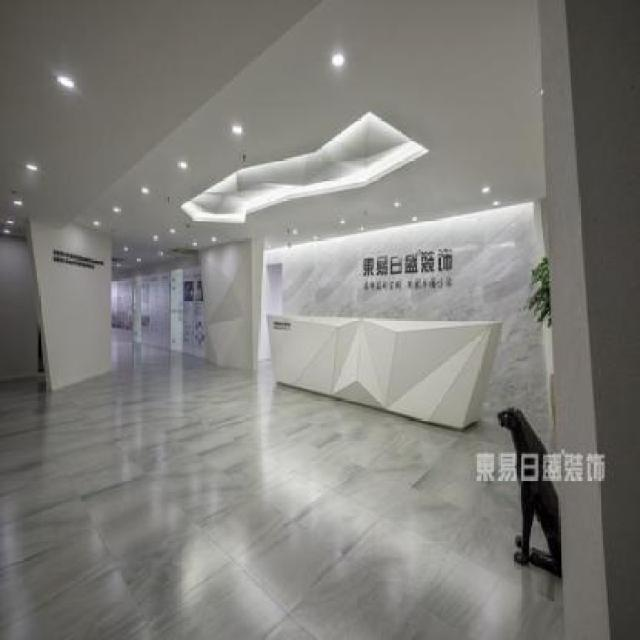frontdesk: (258, 297, 508, 441)
